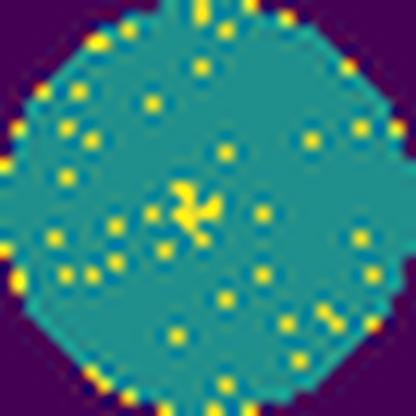Center: (166, 170, 224, 248)
